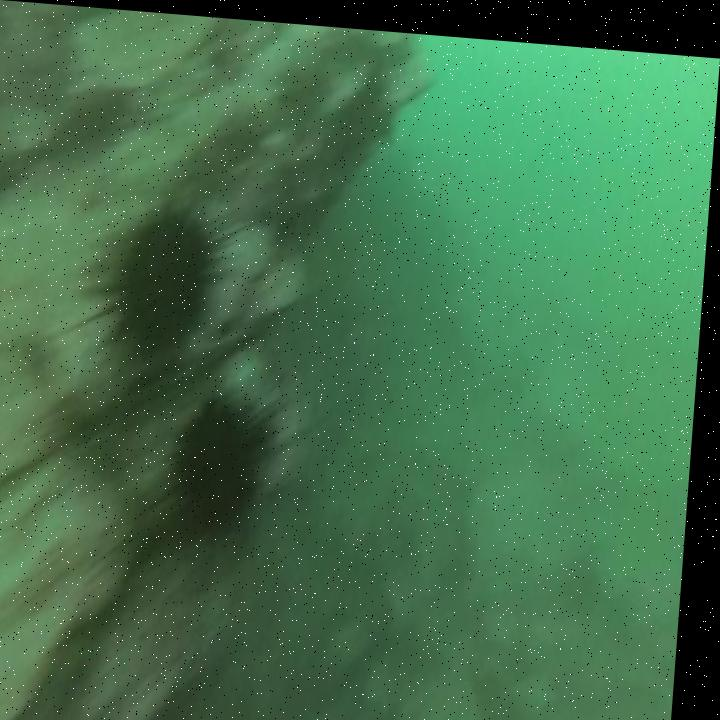echinus: (100, 192, 230, 366), (169, 377, 289, 544)
